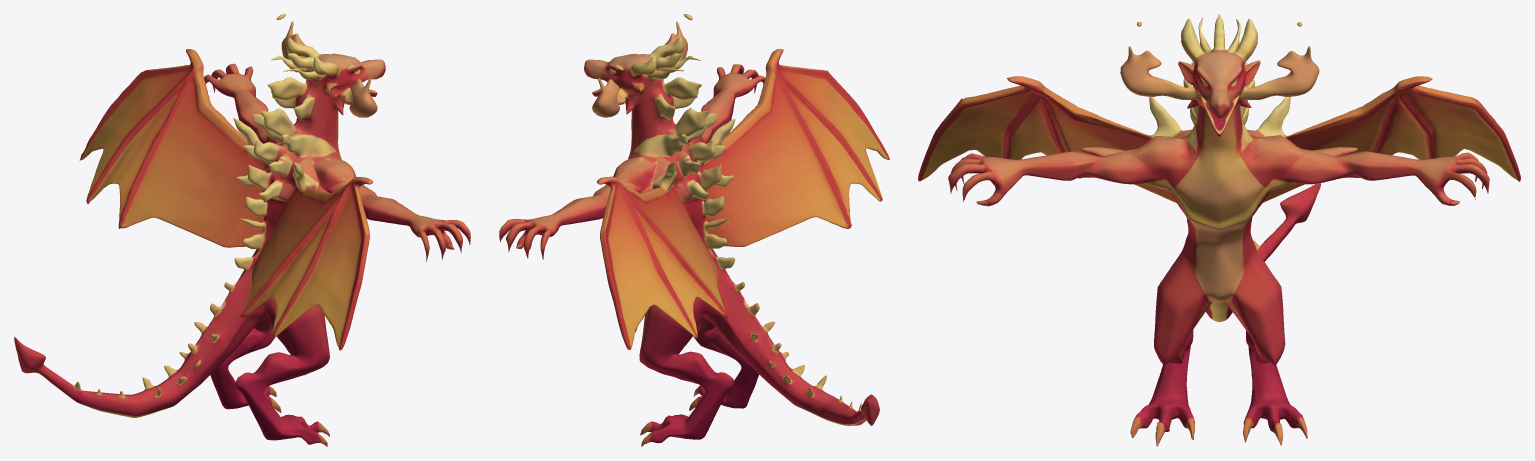
The model's file is dragon fire.glb.
3 views of the same model, side by side, from view 1: azimuth 30°, elevation 25°; view 2: azimuth 150°, elevation 25°; view 3: azimuth 270°, elevation 25° (orthographic). The views are drawn at different scales.
Visible parts, largest first — view 1: tripo_node_7612bda4; view 2: tripo_node_7612bda4; view 3: tripo_node_7612bda4.
Part boxes in pixels (box(x1,y1,x2,y2)): tripo_node_7612bda4: box(14, 14, 470, 446); tripo_node_7612bda4: box(499, 14, 889, 446); tripo_node_7612bda4: box(918, 14, 1520, 446).
Size of the model in its own units: 0.7275 by 0.7944 by 0.9993.
Materials: 1 (1 with a texture image).
